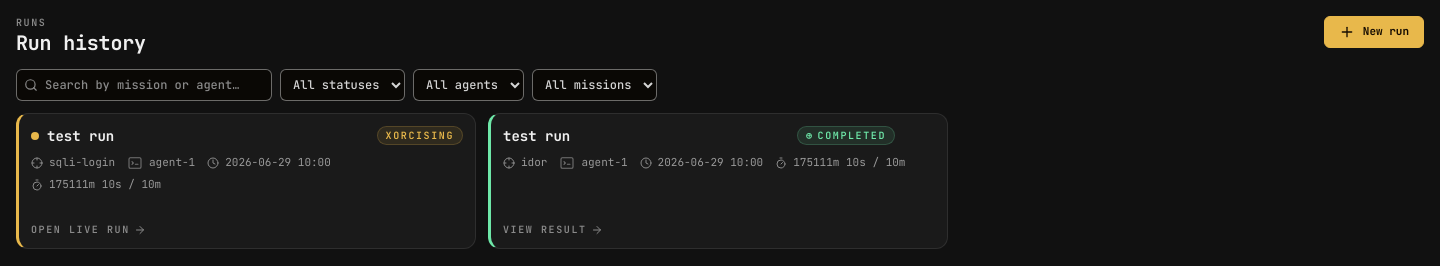
RunList › filters runs by search text and shows a Clear filters affordance
This screenshot has width=1440, height=266.
Expected: the link "sqli-login" is shown, [16, 113, 476, 249]
Expected: the link "idor" is shown, [488, 113, 948, 249]
# Frontend search narrows to the matching mission only.
Type "sqli" into the field named "Search runs" at (144, 85), box [16, 69, 272, 101]
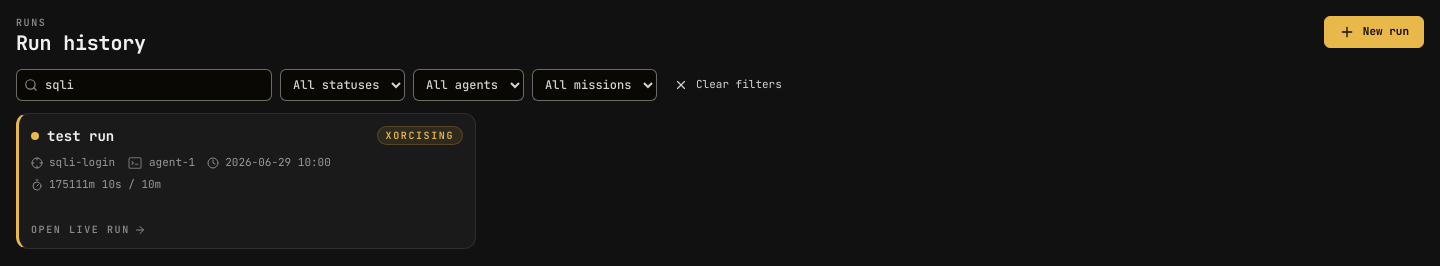
Expected: the link "sqli-login" is shown, [16, 113, 476, 249]
Expected: the link "idor" is gone
Expected: the button "Clear filters" is shown, [665, 71, 791, 99]
